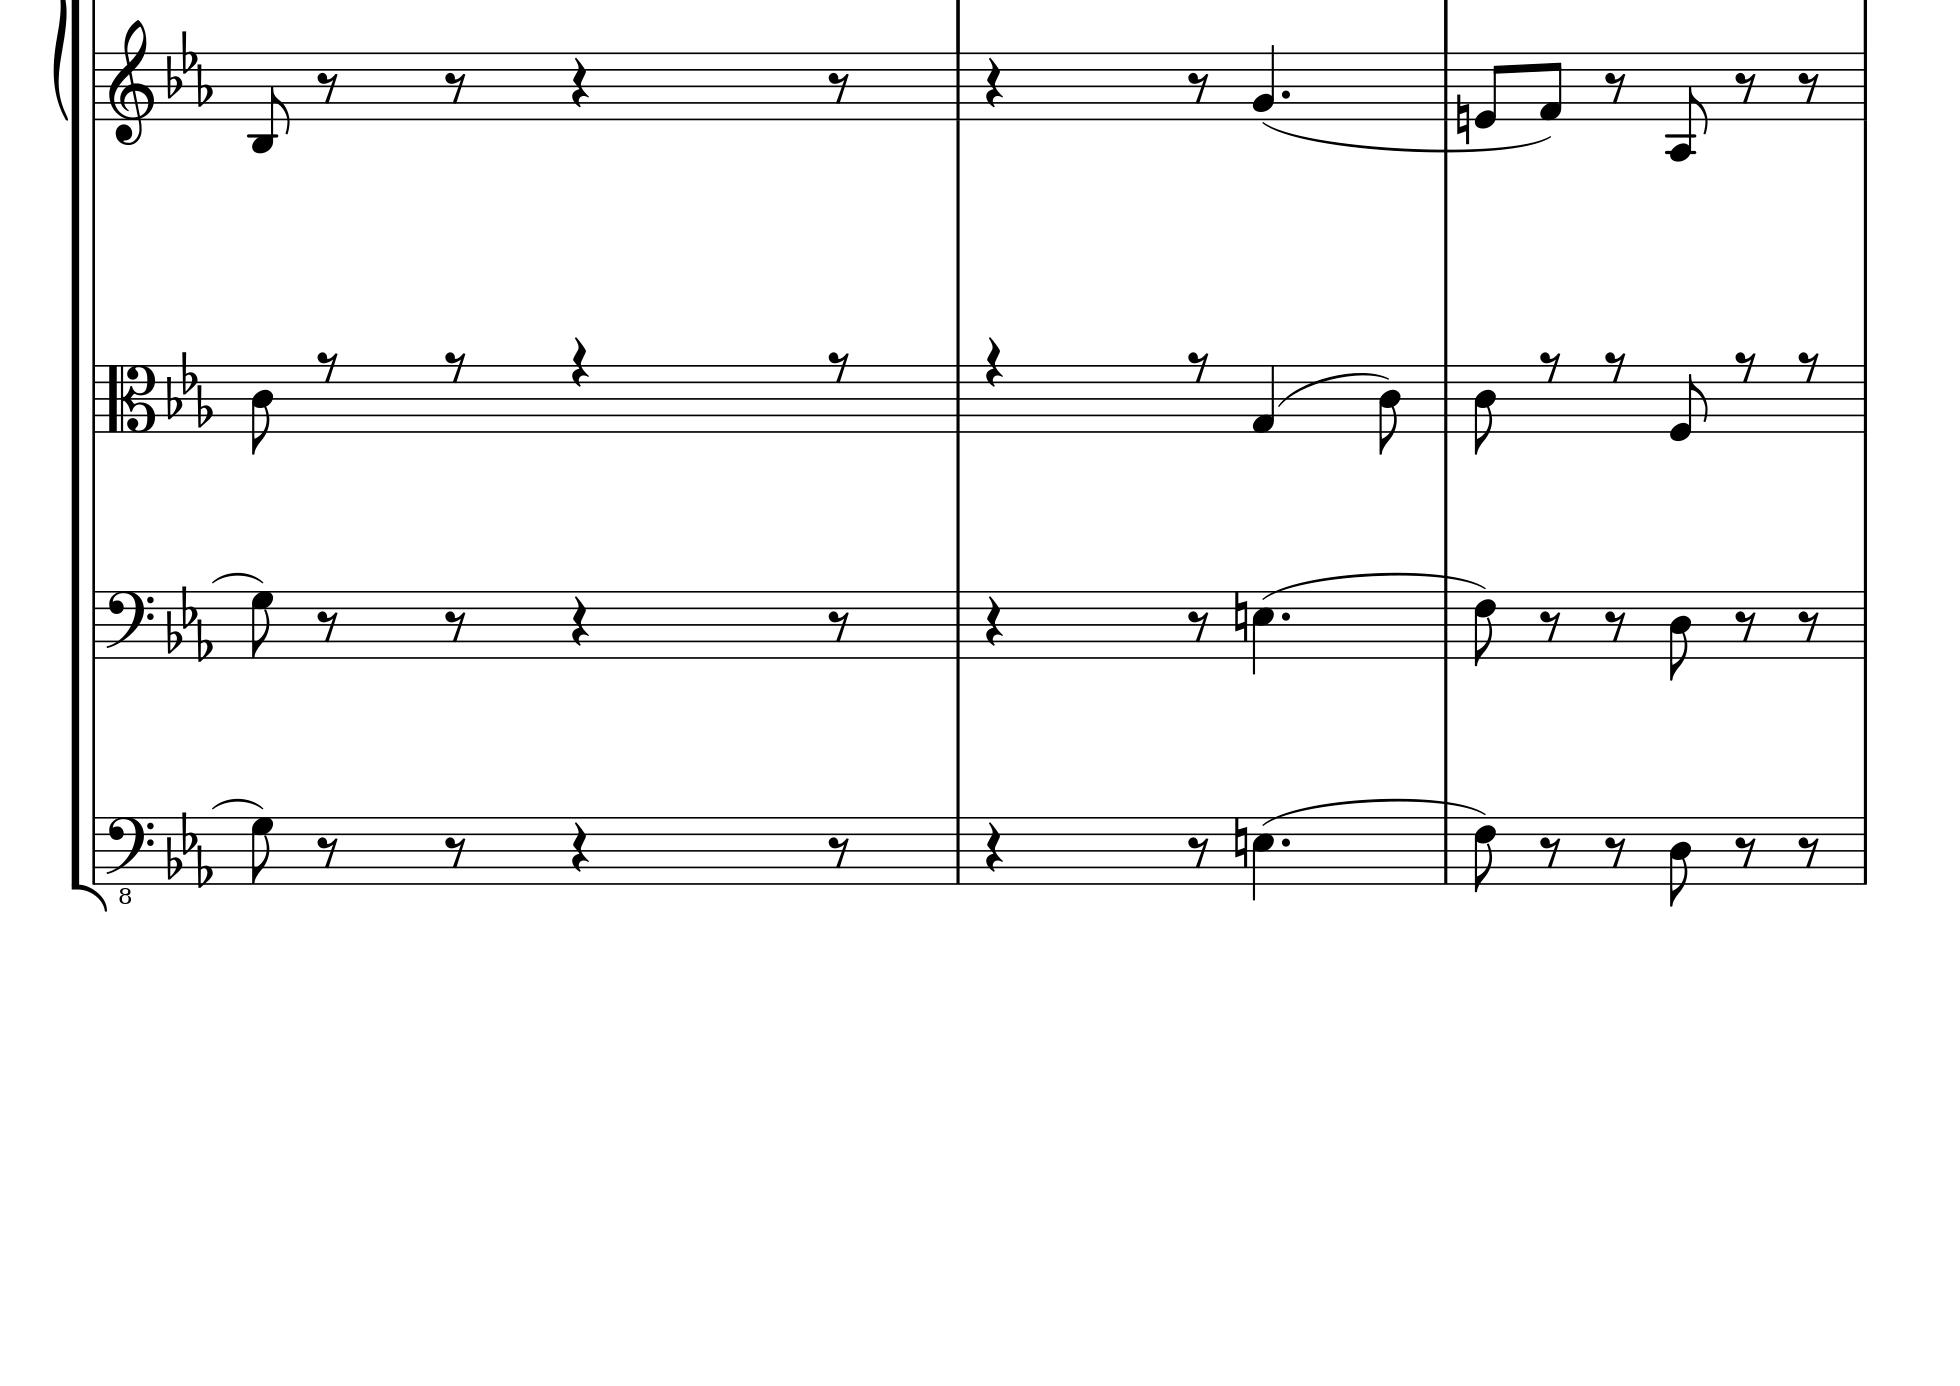4_1: (1251, 363, 1278, 435)
4_2: (1251, 42, 1276, 121)
4_5: (1251, 588, 1275, 676), (1251, 814, 1275, 901)
8_-3: (247, 49, 291, 153)
8_-4: (1666, 51, 1707, 160)
8_0: (1668, 363, 1710, 442), (1474, 49, 1507, 129)
8_1: (1539, 49, 1566, 121)
8_4: (1471, 361, 1498, 454), (249, 363, 274, 457), (1377, 361, 1402, 454), (1668, 589, 1692, 682), (1668, 814, 1692, 907)
8_6: (1473, 589, 1498, 667), (1473, 814, 1498, 892)
8_7: (249, 588, 274, 658), (249, 814, 274, 885)
Cclef: (103, 361, 159, 436)
E_F: (165, 27, 213, 106)
Fclef: (103, 588, 156, 660)
Gclef: (106, 18, 154, 145)
Lower_Fclef: (106, 814, 154, 904)
Natural: (1233, 588, 1249, 642), (1233, 814, 1249, 868), (1455, 91, 1471, 144)
Rests4: (982, 820, 1005, 876), (982, 55, 1005, 109), (982, 334, 1005, 388), (982, 594, 1005, 648), (568, 55, 589, 109), (568, 595, 589, 649), (568, 820, 589, 874), (568, 334, 589, 387)
Rests8: (1188, 832, 1212, 870), (315, 69, 340, 103), (315, 348, 340, 382), (442, 348, 468, 382), (826, 348, 852, 382), (442, 834, 468, 868), (444, 607, 468, 643), (1188, 607, 1212, 643), (1186, 348, 1212, 381), (826, 69, 850, 103), (1188, 69, 1212, 103), (1603, 69, 1627, 103), (826, 607, 850, 642), (826, 834, 850, 868), (1539, 834, 1563, 868), (1797, 832, 1821, 867), (442, 70, 466, 103), (1539, 349, 1563, 382), (1734, 349, 1758, 382), (1797, 349, 1821, 382), (1797, 607, 1821, 640), (1539, 607, 1561, 642), (1605, 834, 1627, 868), (1734, 834, 1756, 868), (1797, 69, 1821, 100), (1603, 349, 1626, 382), (1605, 607, 1627, 640), (1734, 607, 1756, 640), (316, 834, 339, 867), (1734, 70, 1758, 100), (316, 607, 337, 640)
Single_barline: (948, 364, 969, 430), (948, 591, 967, 657), (948, 816, 967, 882), (85, 363, 103, 430), (949, 52, 967, 118), (1857, 52, 1875, 118), (1857, 591, 1875, 657), (1438, 588, 1455, 658), (1857, 817, 1875, 882), (1438, 814, 1455, 883), (1437, 52, 1453, 118), (1437, 364, 1453, 430), (1857, 364, 1873, 430), (1230, 816, 1251, 865), (87, 52, 102, 120), (88, 591, 103, 657), (88, 816, 103, 880), (1230, 591, 1249, 640)
Slur: (1278, 367, 1395, 408), (208, 570, 268, 586), (208, 795, 265, 811)
dot: (1278, 85, 1293, 102), (1279, 609, 1293, 622), (1279, 835, 1293, 849)
